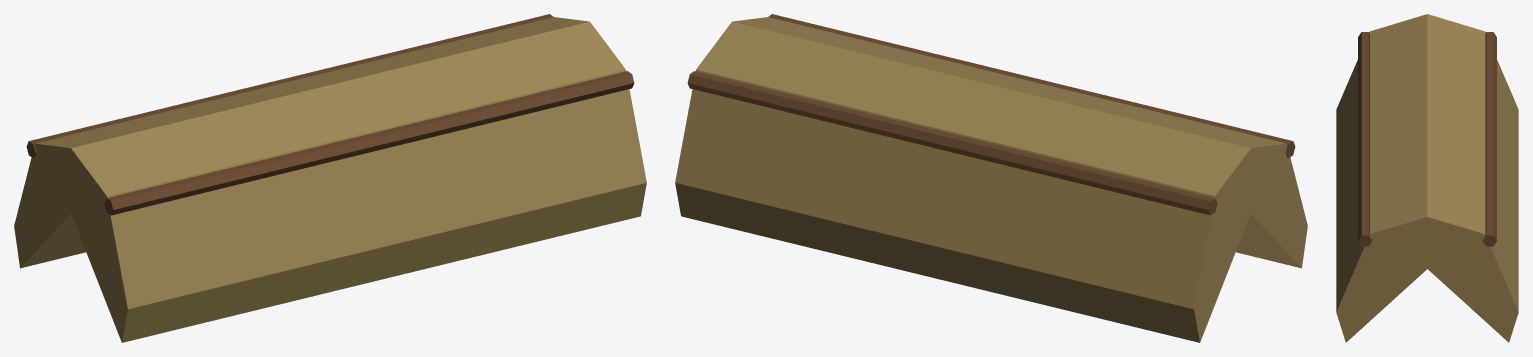
Rendered from mdvl_village_thatch_ridge_01.glb.
3 renders of one model, left to right at view 1: azimuth 30°, elevation 25°; view 2: azimuth 150°, elevation 25°; view 3: azimuth 270°, elevation 25°, orthographic. The views are drawn at different scales.
Visible parts, largest first — view 1: mdvl_village_thatch_ridge_01; view 2: mdvl_village_thatch_ridge_01; view 3: mdvl_village_thatch_ridge_01.
Boxes of the visible parts, x1,y1,x2,y2 form: mdvl_village_thatch_ridge_01: (14, 14, 646, 342); mdvl_village_thatch_ridge_01: (675, 14, 1307, 342); mdvl_village_thatch_ridge_01: (1336, 14, 1518, 342).
Bounding box in the file's own units: 2.01 × 0.58 × 0.76.
Materials: 1 (1 with a texture image).
